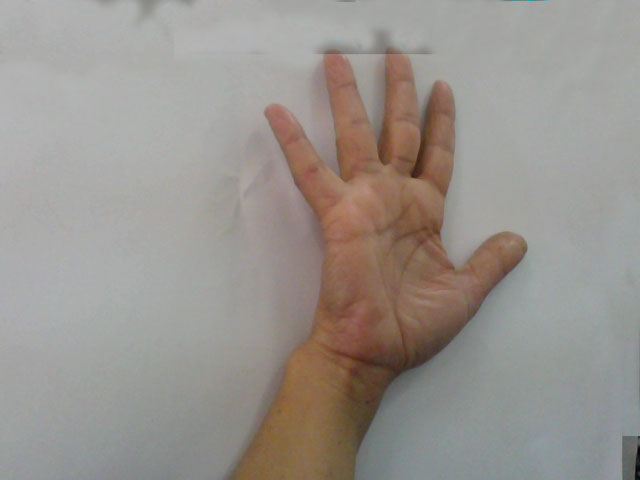hand: (258, 38, 538, 365)
